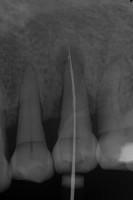Furcation Involvement: (54, 44, 86, 85)
